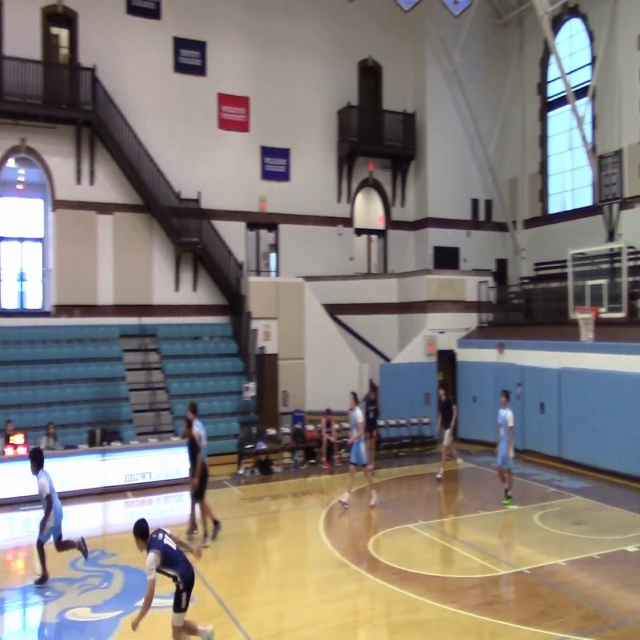Basketball: (367, 161, 375, 171)
